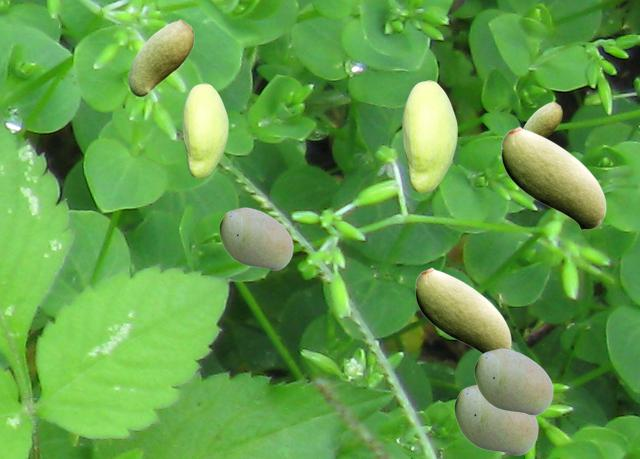green_mango: (501, 126, 605, 229), (415, 267, 510, 353), (402, 80, 456, 192), (454, 384, 537, 454), (474, 348, 552, 414), (128, 19, 193, 95), (219, 207, 292, 269), (182, 83, 227, 177), (523, 101, 561, 137)
